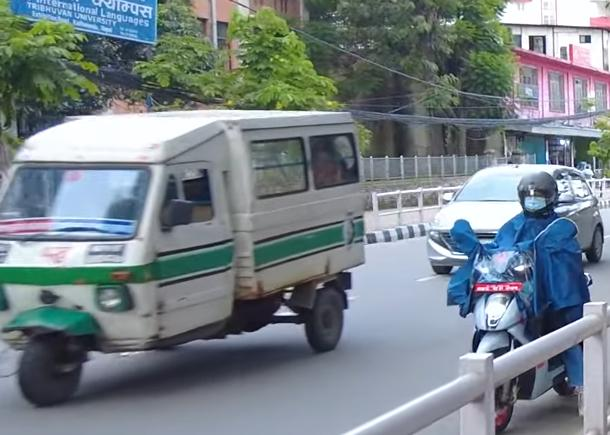car: (426, 163, 604, 275)
scooter: (447, 215, 596, 427)
tempo: (0, 103, 367, 409)
